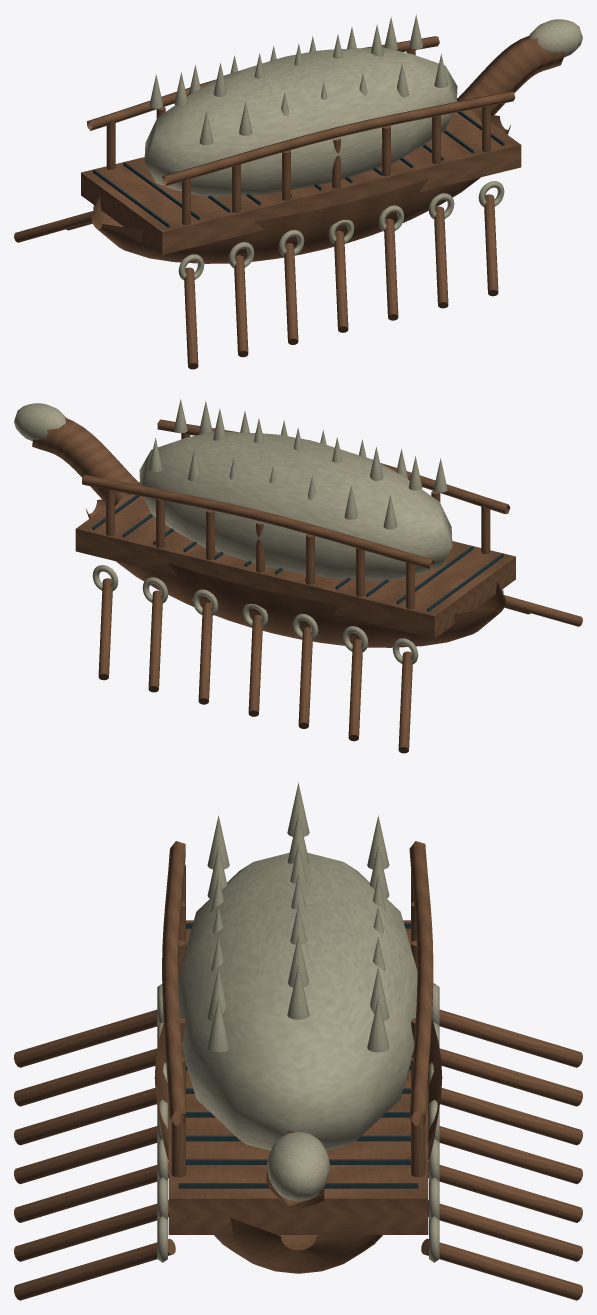
The model's file is turtle_ship.glb.
The picture shows the model from 3 angles, top to bottom: view 1: azimuth 30°, elevation 25°; view 2: azimuth 150°, elevation 25°; view 3: azimuth 270°, elevation 25°; orthographic projection. The views are drawn at different scales.
Parts seen in each view (by area): view 1: static_ornament; view 2: static_ornament; view 3: static_ornament.
Boxes of the visible parts, x1=… form: static_ornament: x1=14, y1=15, x2=582, y2=369; static_ornament: x1=14, y1=399, x2=582, y2=753; static_ornament: x1=14, y1=782, x2=582, y2=1300.
Bounding box in the file's own units: 2.23 × 0.9487 × 1.43.
1 material, 1 textured.
